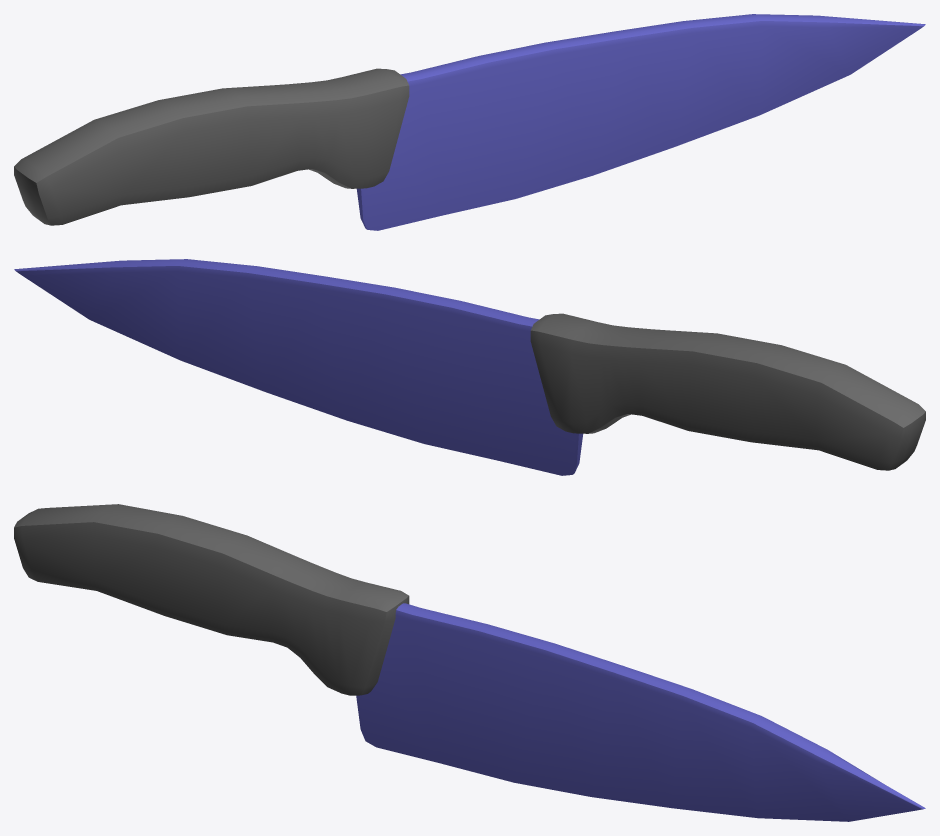
File: SM_knife_01.fbx
3 views of the same model, one above another, from view 1: azimuth 30°, elevation 25°; view 2: azimuth 150°, elevation 25°; view 3: azimuth 330°, elevation 25° (orthographic).
Visible parts, largest first — view 1: Box399; view 2: Box399; view 3: Box399.
Boxes of the visible parts, bbox=[...] form: Box399: bbox=[14, 14, 925, 230]; Box399: bbox=[14, 259, 925, 475]; Box399: bbox=[14, 504, 925, 821].
Bounding box in the file's own units: 29.82 × 5.59 × 1.65.
